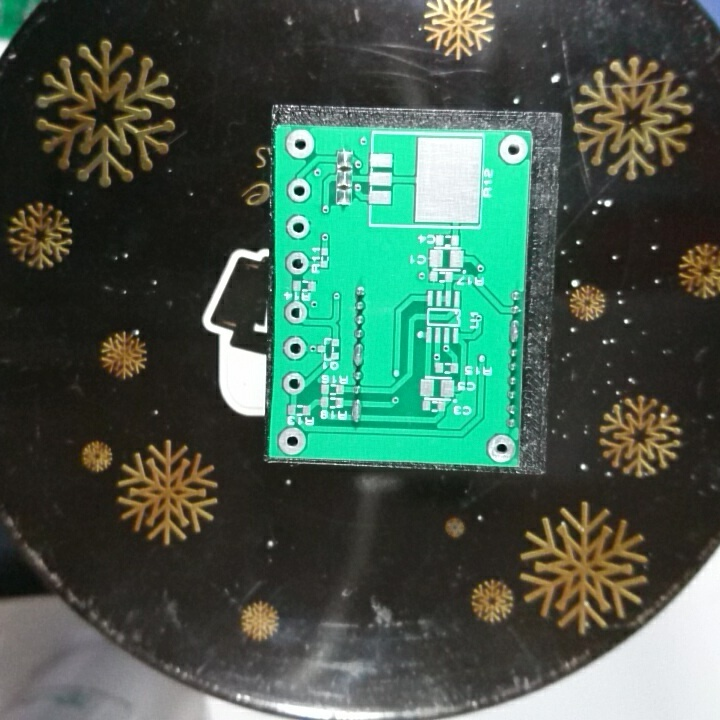F: (282, 126, 317, 160), (497, 133, 531, 166), (275, 424, 308, 457), (484, 433, 518, 464), (282, 213, 314, 240), (285, 176, 314, 204), (283, 249, 311, 278), (281, 334, 308, 363), (282, 298, 309, 326), (280, 369, 307, 396)
P: (351, 341, 366, 369), (507, 316, 521, 346), (349, 396, 362, 424)
